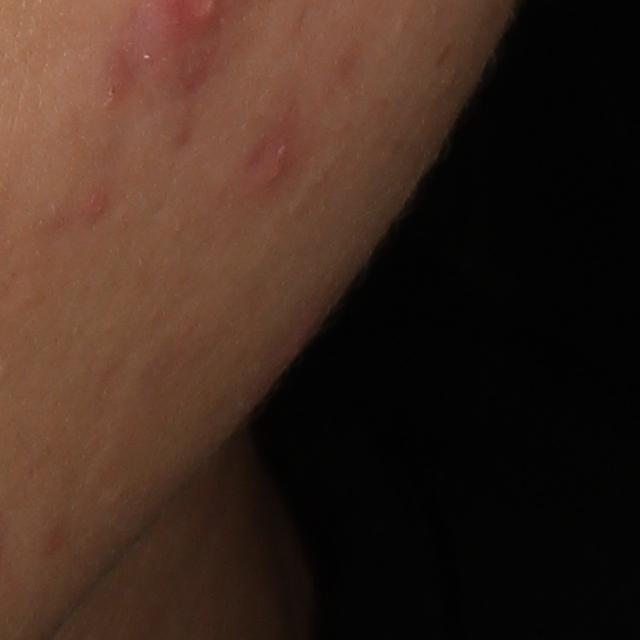papule: (252, 149, 289, 194), (83, 193, 113, 222)
